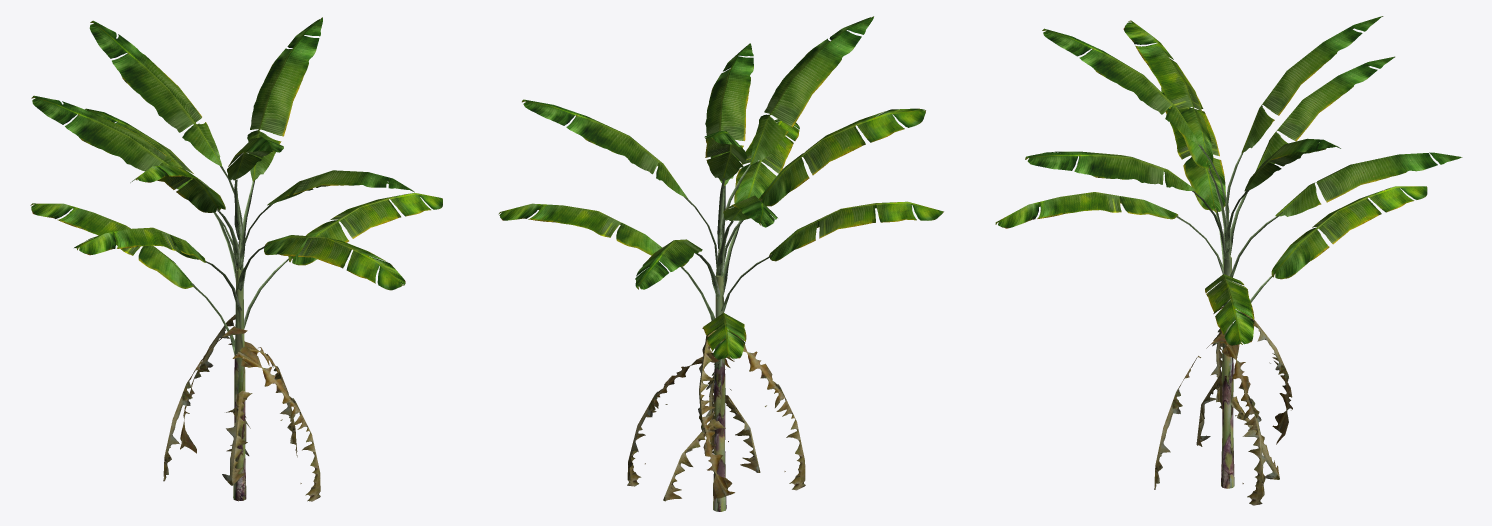
File: ban_LOD0.fbx
The picture shows the model from 3 angles, left to right: view 1: azimuth 30°, elevation 25°; view 2: azimuth 150°, elevation 25°; view 3: azimuth 270°, elevation 25°; orthographic projection. The views are drawn at different scales.
Visible parts, largest first — view 1: Mesh Object; view 2: Mesh Object; view 3: Mesh Object.
Part boxes in pixels (x1,y1,x2,y2): Mesh Object: (30, 17, 442, 501); Mesh Object: (498, 16, 943, 511); Mesh Object: (995, 16, 1462, 505).
Size of the model in its own units: 19.49 by 19.7 by 20.
